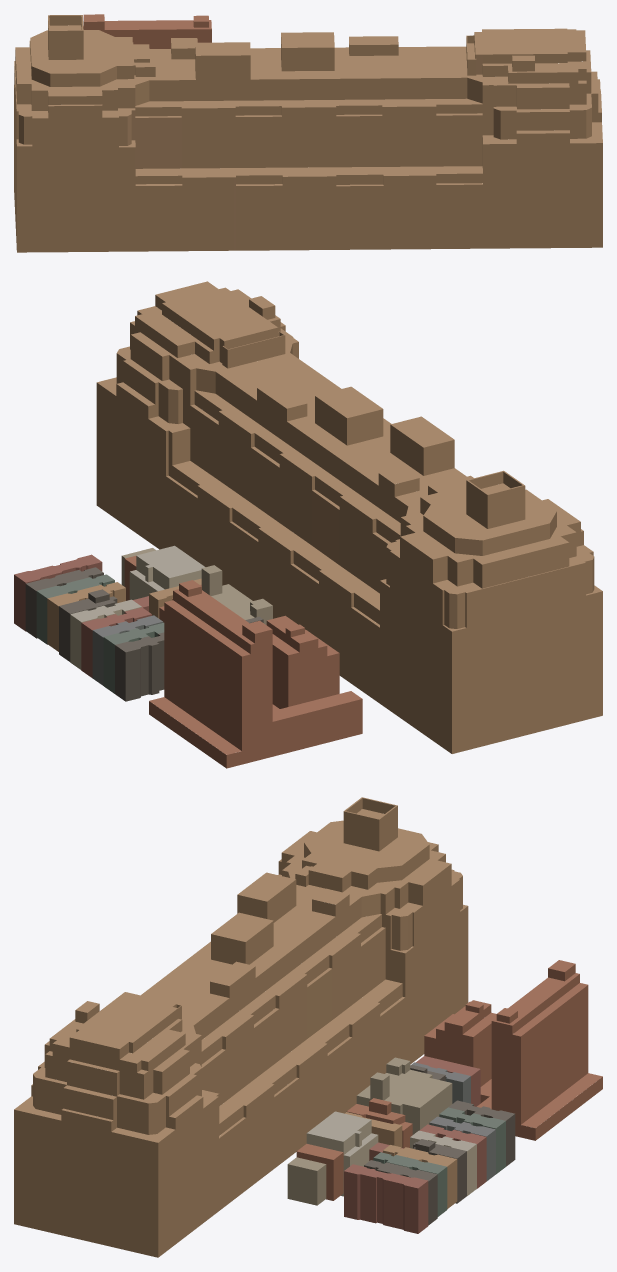
The model's file is tile--3_-7.glb.
3 views of the same model, one above another, from view 1: azimuth 30°, elevation 25°; view 2: azimuth 150°, elevation 25°; view 3: azimuth 270°, elevation 25° (orthographic). The views are drawn at different scales.
Visible parts, largest first — view 1: wall, roof; view 2: wall, roof; view 3: wall, roof.
Part boxes in pixels (x1,y1,x2,y2): wall: (14,15,602,252); roof: (14,14,602,186); wall: (14,295,602,768); roof: (14,281,602,754); wall: (14,798,602,1257); roof: (14,797,602,1188).
Bounding box in the file's own units: 243 × 91.11 × 223.
